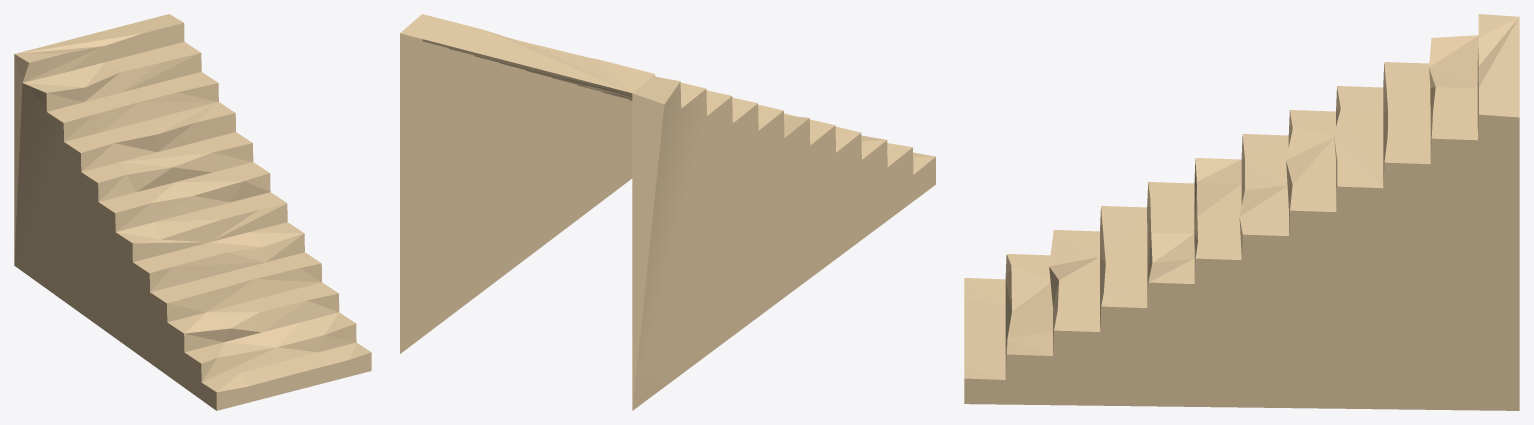
Rendered from Stair_Body_low.fbx.
The picture shows the model from 3 angles, left to right: view 1: azimuth 30°, elevation 25°; view 2: azimuth 150°, elevation 25°; view 3: azimuth 270°, elevation 25°; orthographic projection. The views are drawn at different scales.
Visible parts, largest first — view 1: Stair_Body_low; view 2: Stair_Body_low; view 3: Stair_Body_low.
Boxes of the visible parts, x1,y1,x2,y2 form: Stair_Body_low: (14,14,371,410); Stair_Body_low: (400,14,935,410); Stair_Body_low: (964,14,1519,410).
Bounding box in the file's own units: 1.9 × 2.43 × 4.12.
